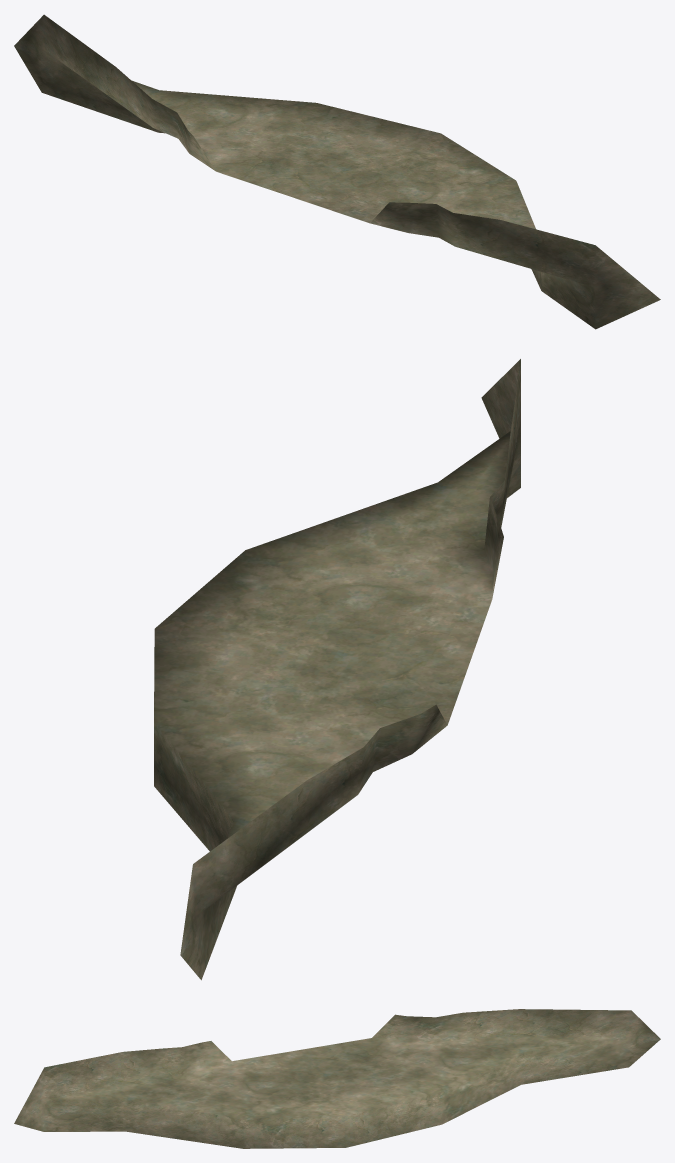
The model's file is OVERHILL_A_01_OBJECT148.fbx.
The picture shows the model from 3 angles, top to bottom: view 1: azimuth 30°, elevation 25°; view 2: azimuth 150°, elevation 25°; view 3: azimuth 270°, elevation 25°; orthographic projection. The views are drawn at different scales.
Visible parts, largest first — view 1: OVERHILL_A_01_OBJECT148; view 2: OVERHILL_A_01_OBJECT148; view 3: OVERHILL_A_01_OBJECT148.
Part boxes in pixels (x1=…): OVERHILL_A_01_OBJECT148: x1=14, y1=14, x2=660, y2=329; OVERHILL_A_01_OBJECT148: x1=154, y1=359, x2=520, y2=980; OVERHILL_A_01_OBJECT148: x1=14, y1=1009, x2=660, y2=1148.
Size of the model in its own units: 25888 by 9064 by 82189.
1 material, 1 textured.
